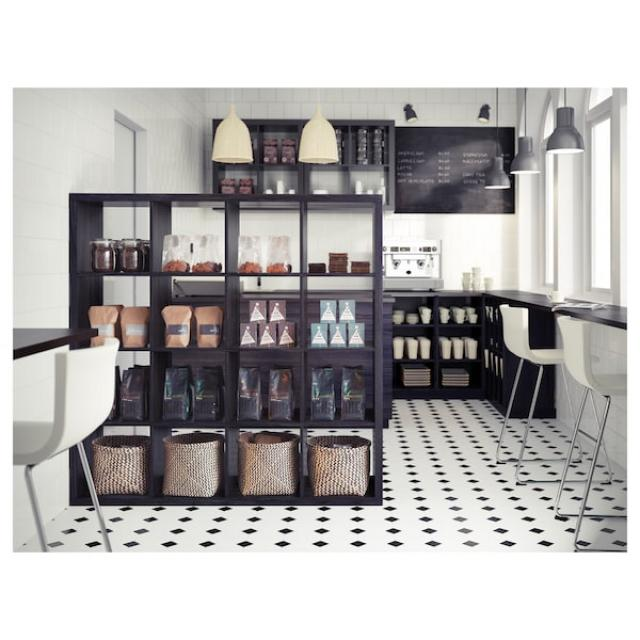Shelf: (59, 187, 391, 518)
